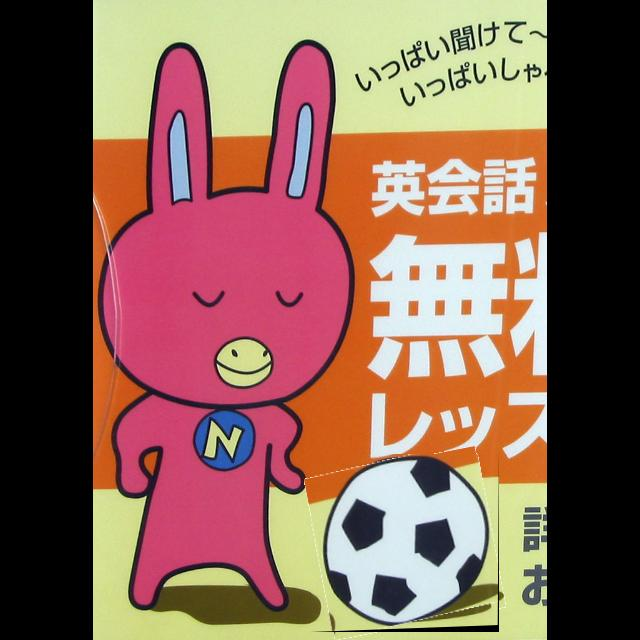Football: (311, 454, 499, 632)
